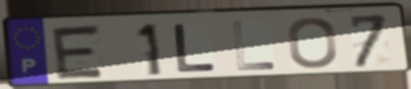1: (135, 21, 166, 77)
7: (349, 12, 390, 69)
E: (49, 23, 108, 82)
L: (171, 22, 220, 75), (230, 19, 278, 72)
O: (285, 15, 339, 71)
